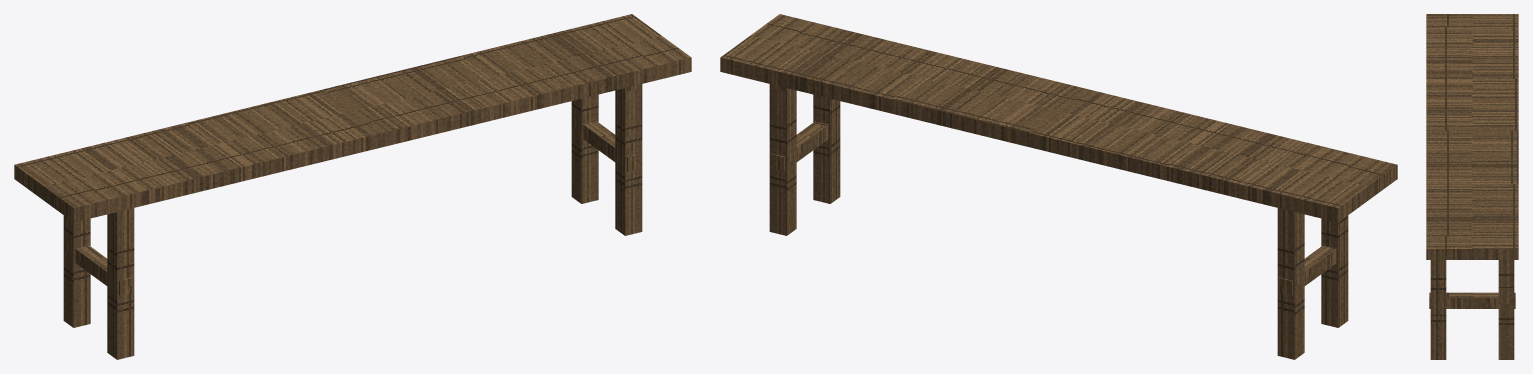
The model's file is fb_bench.glb.
3 renders of one model, left to right at view 1: azimuth 30°, elevation 25°; view 2: azimuth 150°, elevation 25°; view 3: azimuth 270°, elevation 25°, orthographic. The views are drawn at different scales.
Visible parts, largest first — view 1: fb_bench; view 2: fb_bench; view 3: fb_bench.
Part boxes in pixels (<box>): fb_bench: <box>14,14,691,359</box>; fb_bench: <box>720,14,1397,359</box>; fb_bench: <box>1426,14,1518,359</box>.
Size of what is drawn, in the model's own units: 1.8 by 0.46 by 0.3.
Materials: 1 (1 with a texture image).
